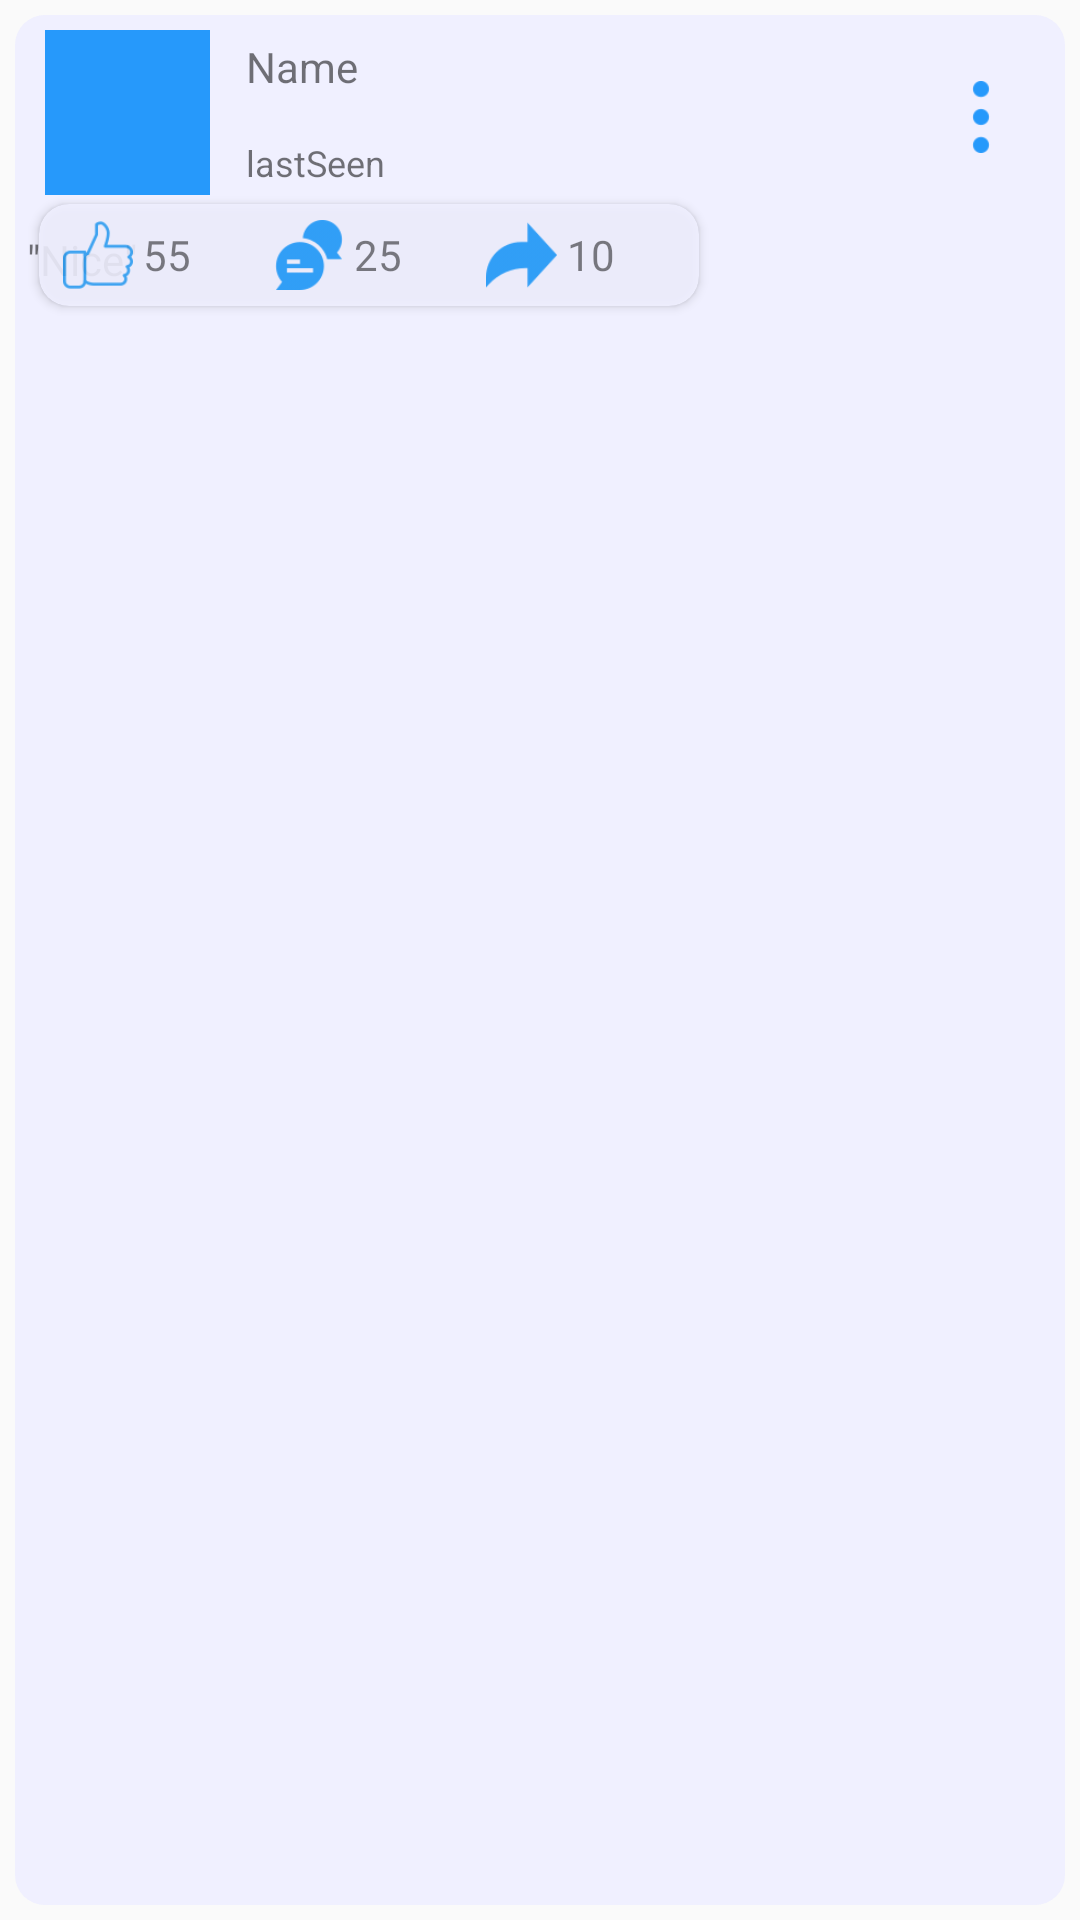

Icons on this 1080px×1920px Android screen, each with the point to tap as (x,y):
comments: (309,255)
likable: (98,255)
more: (981,117)
share: (521,255)
